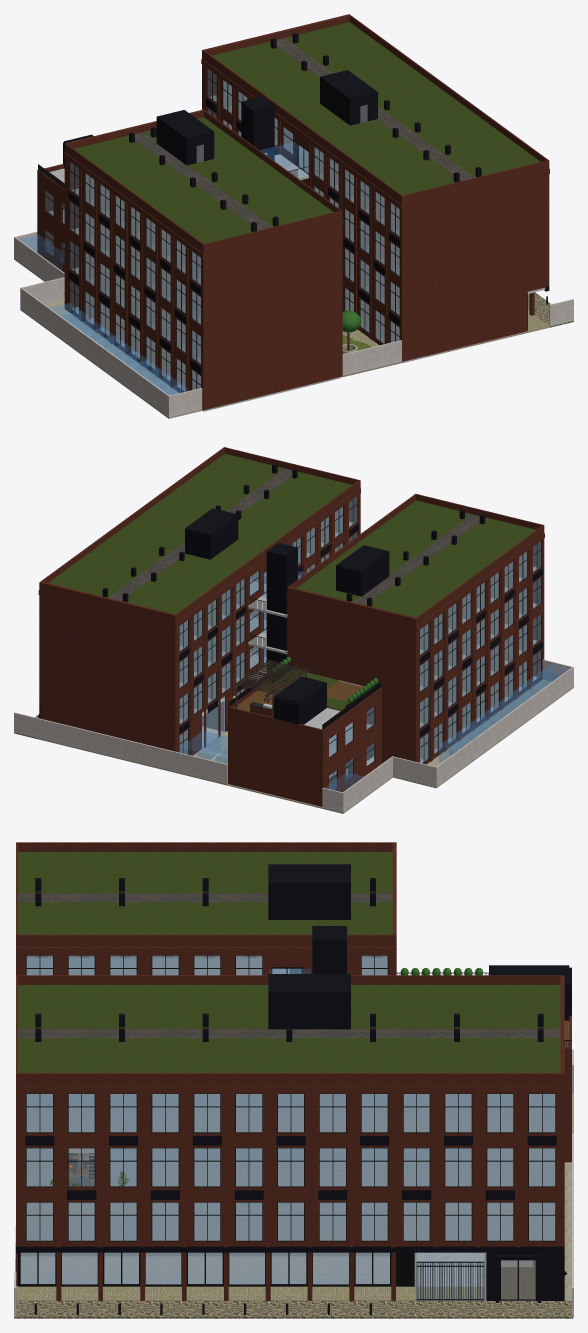
The model's file is modelo.glb.
3 renders of one model, top to bottom at view 1: azimuth 30°, elevation 25°; view 2: azimuth 150°, elevation 25°; view 3: azimuth 270°, elevation 25°, orthographic. The views are drawn at different scales.
Visible parts, largest first — view 1: m46, m43, m19, m33, m7, m45, m59, m49, m39, m48, m41, m15 (+20 smaller); view 2: m46, m43, m19, m33, m7, m59, m45, m49, m1, m39, m54, m15 (+23 smaller); view 3: m46, m43, m45, m19, m39, m40, m33, m17, m49, m15, m25, m29 (+23 smaller).
Boxes of the visible parts, box(x1,y1,x2,y2) form: m46: box(74, 22, 540, 243); m43: box(64, 57, 549, 291); m19: box(37, 174, 549, 370); m33: box(37, 97, 549, 331); m7: box(37, 214, 534, 410); m45: box(64, 14, 549, 252); m59: box(14, 231, 573, 417); m49: box(129, 33, 481, 231); m39: box(70, 69, 399, 284); m48: box(135, 38, 474, 230); m41: box(85, 80, 399, 278); m15: box(45, 191, 399, 363); m46: box(48, 454, 535, 617); m43: box(38, 487, 544, 662); m19: box(39, 605, 544, 770); m33: box(39, 524, 544, 733); m7: box(40, 642, 544, 806); m59: box(14, 659, 573, 812); m45: box(39, 447, 544, 625); m49: box(102, 464, 485, 606); m1: box(180, 662, 568, 791); m39: box(180, 496, 540, 654); m54: box(179, 523, 542, 724); m15: box(180, 614, 540, 757); m46: box(18, 852, 560, 1072); m43: box(16, 945, 564, 1138); m45: box(16, 842, 564, 1084); m19: box(16, 1054, 571, 1247); m39: box(27, 956, 554, 1131); m40: box(26, 957, 555, 1132); m33: box(16, 1015, 571, 1192); m17: box(26, 1202, 555, 1240); m49: box(35, 864, 543, 1041); m15: box(27, 1203, 554, 1240); m25: box(27, 1148, 554, 1186); m29: box(26, 973, 555, 1186).
Bounding box in the file's own units: 48.07 × 21.45 × 42.14.
251 materials, 37 textured.
